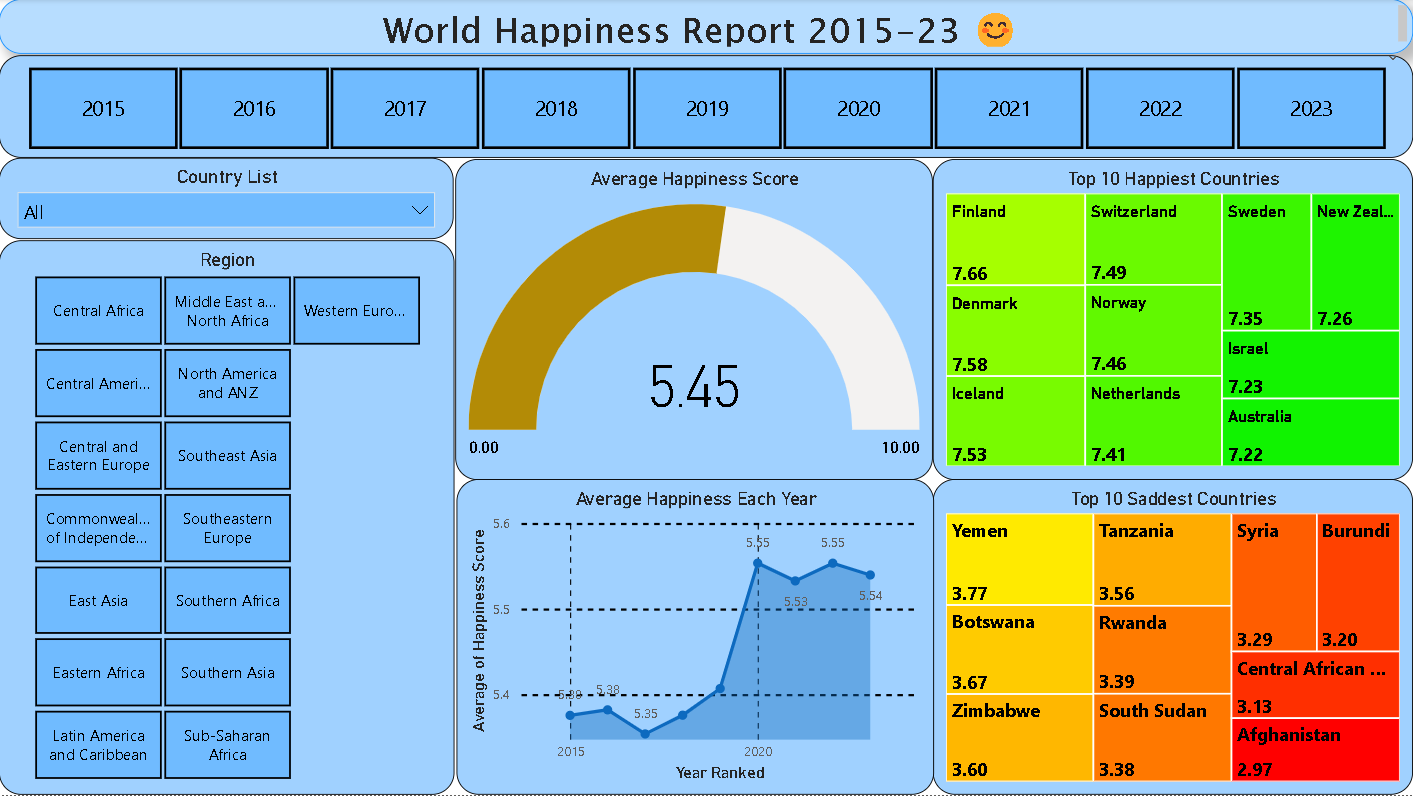

What the dashboard file says about the page in this screenshot:
{"tool":"powerbi","page":{"name":"Page 1","canvas":[1280,720],"ordinal":0},"visuals":[{"type":"textbox","box":[0,0,1279.5,49.3],"z":0},{"type":"slicer","title":"Ranking Year","fields":{"Values":["World Happiness 2015-2023.Year Ranked"]},"box":[0,49.7,1278.8,93.8],"z":1000},{"type":"slicer","title":"Region","fields":{"Values":["World Happiness 2015-2023.Region"]},"box":[0,217.1,413.8,503.1],"z":2000},{"type":"gauge","title":"Average Happiness Score","fields":{"Y":["Avg(World Happiness 2015-2023.Happiness Score)"]},"box":[411.6,143.6,431.9,290.6],"z":3000},{"type":"treemap","title":"Top 10 Happiest Countries","fields":{"Group":["World Happiness 2015-2023.Country"],"Values":["Avg(World Happiness 2015-2023.Happiness Score)"]},"box":[844.6,143.6,434.2,290.6],"z":4000},{"type":"treemap","title":"Top 10 Saddest Countries","fields":{"Group":["World Happiness 2015-2023.Country"],"Values":["Avg(World Happiness 2015-2023.Happiness Score)"]},"box":[844.4,434.4,434.4,285.6],"z":5000},{"type":"slicer","title":"Country List","fields":{"Values":["World Happiness 2015-2023.Country"]},"box":[0,143.6,411.6,73.5],"z":6000},{"type":"lineChart","title":"Average Happiness Each Year","fields":{"Y":["Avg(World Happiness 2015-2023.Happiness Score)"],"Category":["World Happiness 2015-2023.Year Ranked"]},"box":[413.3,434.4,432.2,285.6],"z":7000}]}

Visuals, with their boxes in screenshot pixels (x1, y1, x2, y2), scaled from the page's 1280x720 canvas onto the 1413x796 screenshot:
textbox: Rect(0, 0, 1412, 55)
"Ranking Year" slicer: Rect(0, 55, 1412, 159)
"Region" slicer: Rect(0, 240, 457, 795)
"Average Happiness Score" gauge: Rect(454, 159, 931, 480)
"Top 10 Happiest Countries" treemap: Rect(932, 159, 1412, 480)
"Top 10 Saddest Countries" treemap: Rect(932, 480, 1412, 795)
"Country List" slicer: Rect(0, 159, 454, 240)
"Average Happiness Each Year" lineChart: Rect(456, 480, 933, 795)
